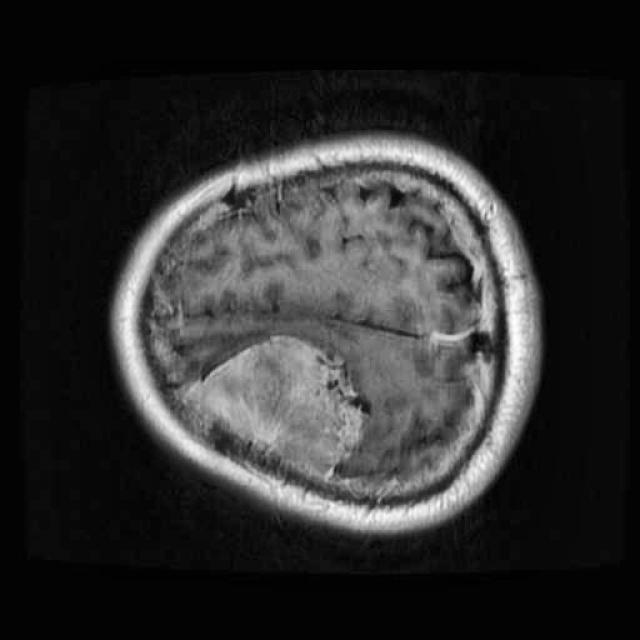Tumor: (158, 321, 370, 506)
